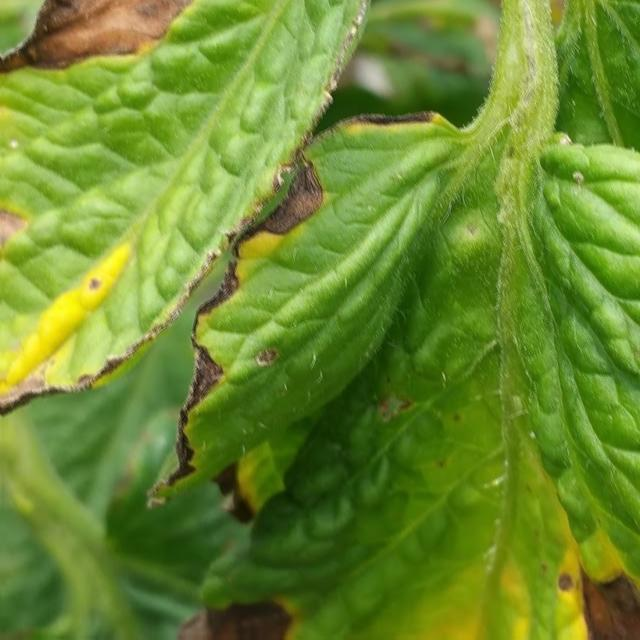Tomato leaf bacterial spot: (186, 72, 640, 640), (0, 0, 413, 532), (502, 0, 640, 640)
